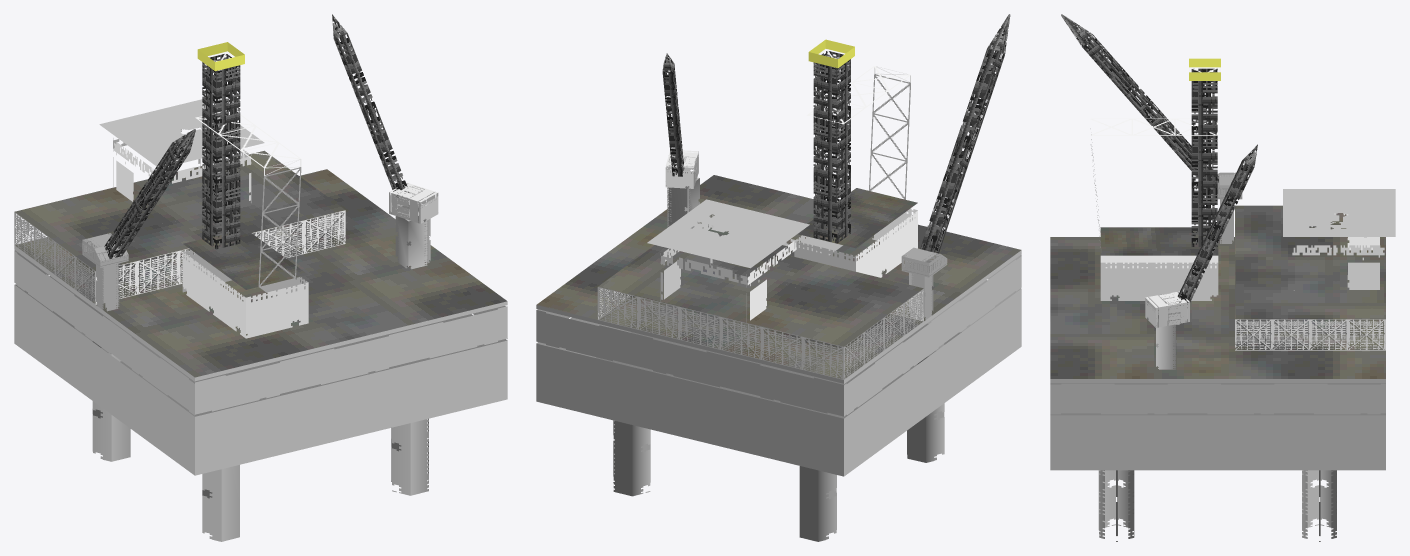
The model's file is uvmd-0161.glb.
The picture shows the model from 3 angles, left to right: view 1: azimuth 30°, elevation 25°; view 2: azimuth 150°, elevation 25°; view 3: azimuth 270°, elevation 25°; orthographic projection. The views are drawn at different scales.
Visible parts, largest first — view 1: uvmd-0161; view 2: uvmd-0161; view 3: uvmd-0161.
Part boxes in pixels (x1=…): uvmd-0161: x1=14, y1=14, x2=507, y2=541; uvmd-0161: x1=536, y1=14, x2=1021, y2=541; uvmd-0161: x1=1050, y1=14, x2=1395, y2=541.
Bounding box in the file's own units: 721 × 939 × 720.
Materials: 10 (10 with a texture image).
